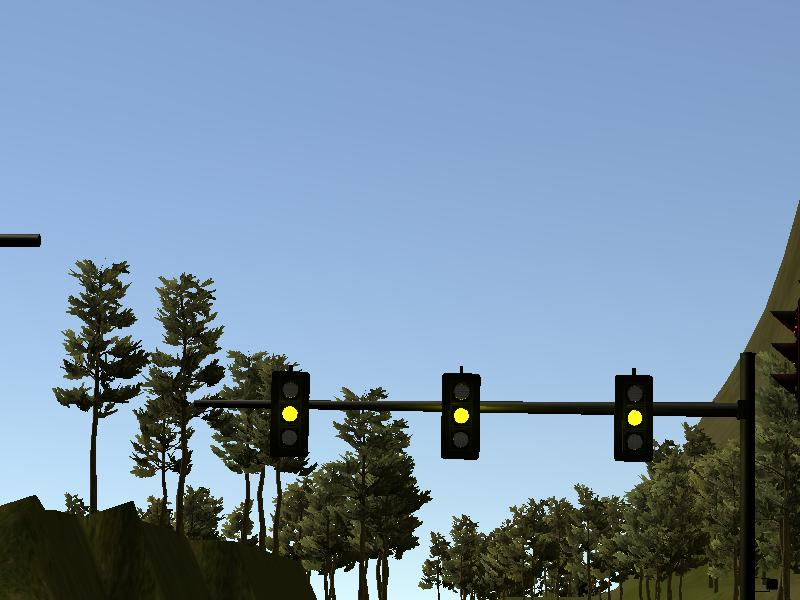yellow: (440, 372, 481, 461), (614, 372, 654, 463), (269, 370, 309, 458)
